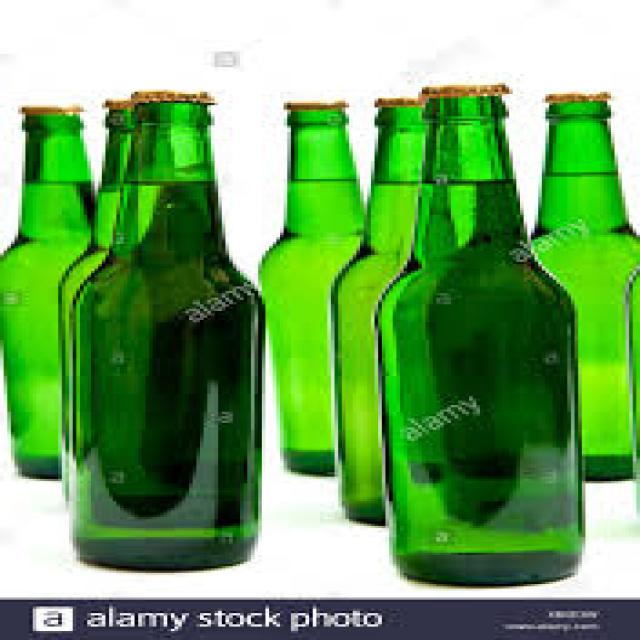glass: (371, 94, 582, 584), (62, 103, 251, 571), (327, 105, 429, 526), (258, 108, 367, 475), (531, 101, 636, 479), (4, 112, 91, 477), (58, 107, 131, 488)
metal: (116, 85, 211, 103), (411, 83, 505, 98), (11, 99, 76, 117), (280, 94, 345, 110), (534, 92, 611, 103), (371, 92, 418, 107), (91, 96, 120, 105)
